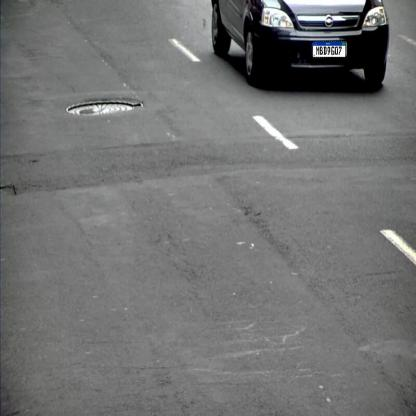PlacaM: (312, 41, 346, 57)
